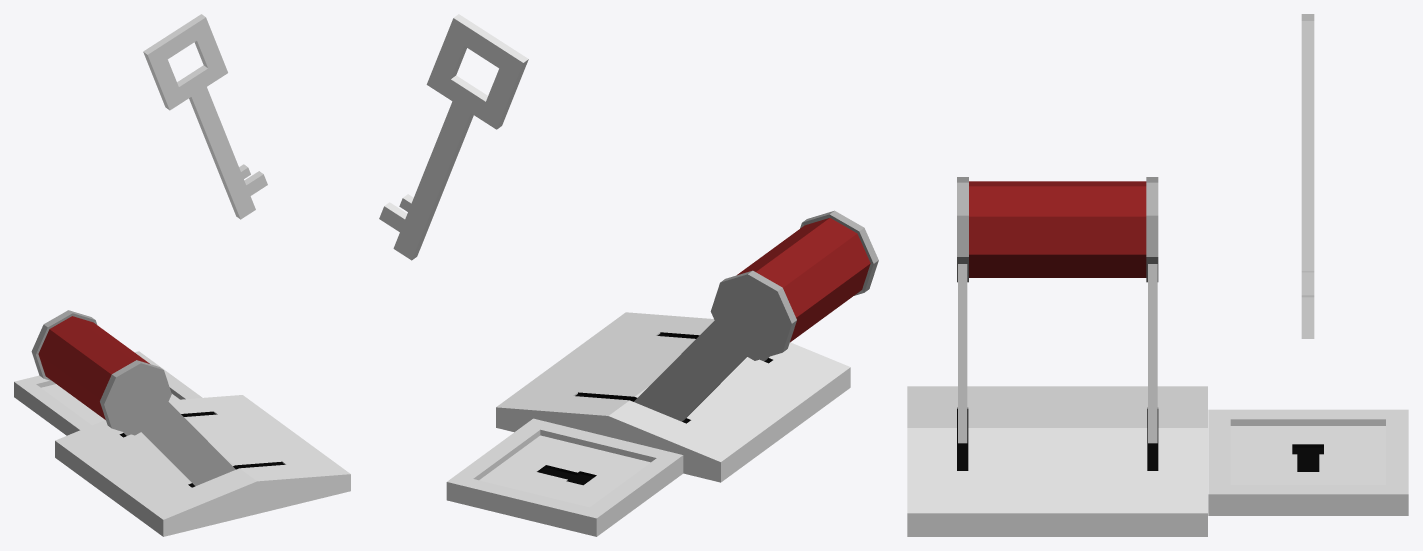
The model's file is Alavanca e Fechadura.fbx.
3 renders of one model, left to right at view 1: azimuth 30°, elevation 25°; view 2: azimuth 150°, elevation 25°; view 3: azimuth 270°, elevation 25°, orthographic. The views are drawn at different scales.
Visible parts, largest first — view 1: Base, Alavanca, Plane, Fechadura; view 2: Base, Alavanca, Fechadura, Plane; view 3: Base, Alavanca, Fechadura, Plane.
Part boxes in pixels (x1,y1,x2,y2): Base: (55,395,350,536); Alavanca: (31,310,235,485); Plane: (143,14,267,219); Fechadura: (14,351,202,435); Base: (496,312,850,482); Alavanca: (634,210,878,421); Fechadura: (446,418,683,536); Plane: (379,14,528,260); Base: (907,386,1207,536); Alavanca: (957,177,1158,443); Fechadura: (1208,409,1408,515); Plane: (1301,14,1314,338).
Bounding box in the file's own units: 921 × 1133 × 1000.
